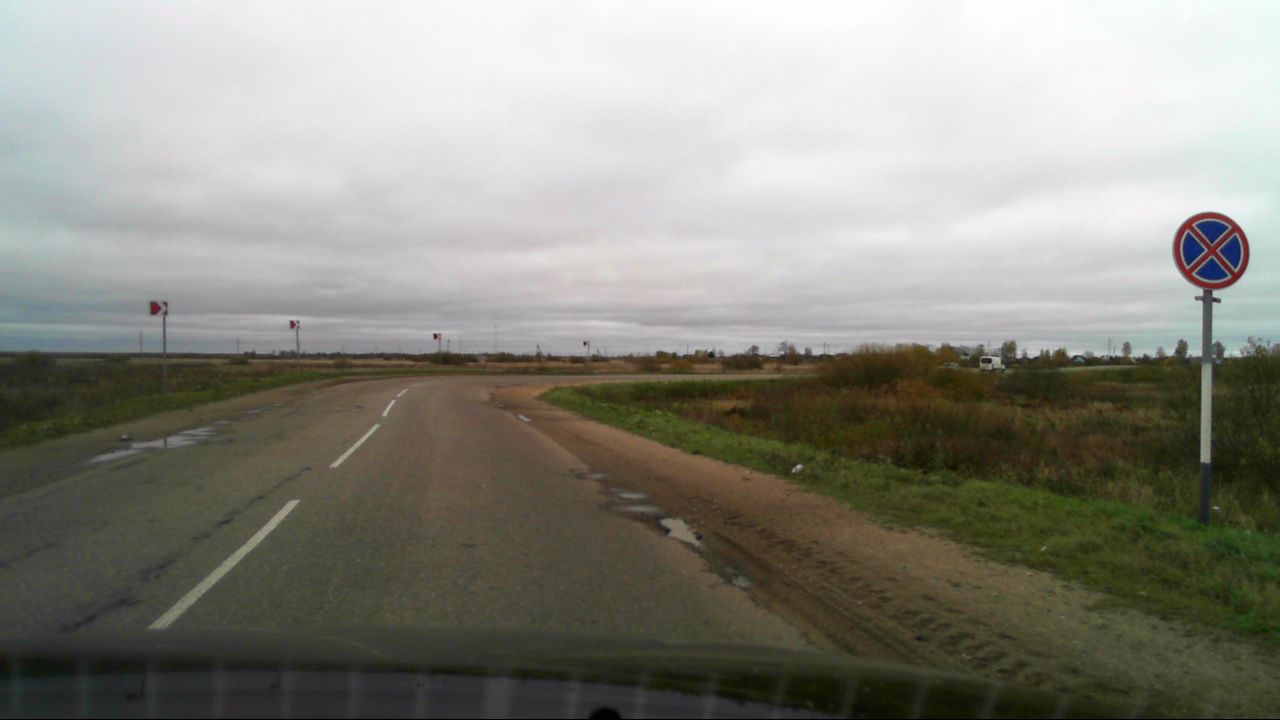No Parking: (1172, 212, 1252, 292)
